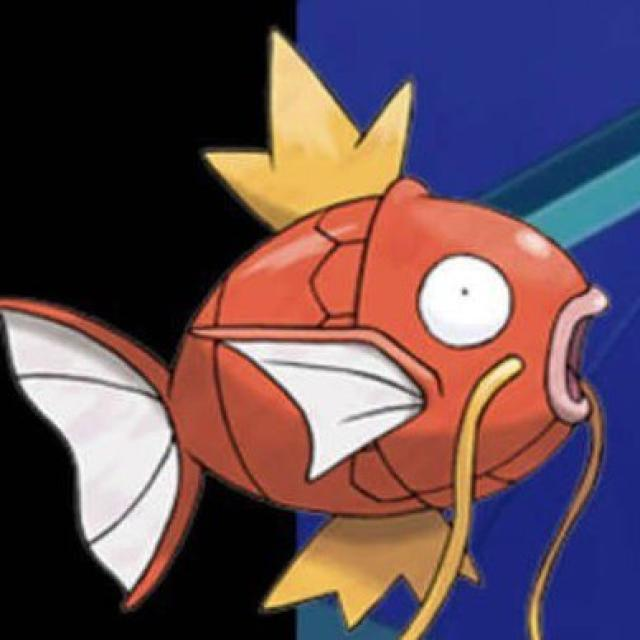Magikarp: (0, 142, 607, 590)
